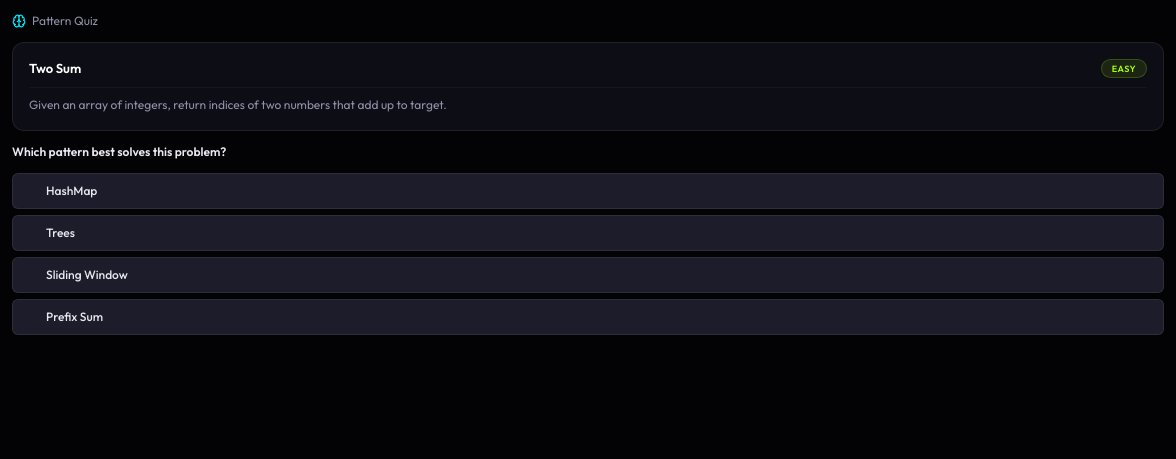
Scenario: PatternQuizPanel › answering correctly › Next Problem resets to answering state (hides Correct feedback)
The image size is (1176, 459).
What coordinates should you click on to do the following:
click the button "HashMap"
I would click on:
 (72, 190)
Its box is top-left (12, 172), bottom-right (1164, 208).
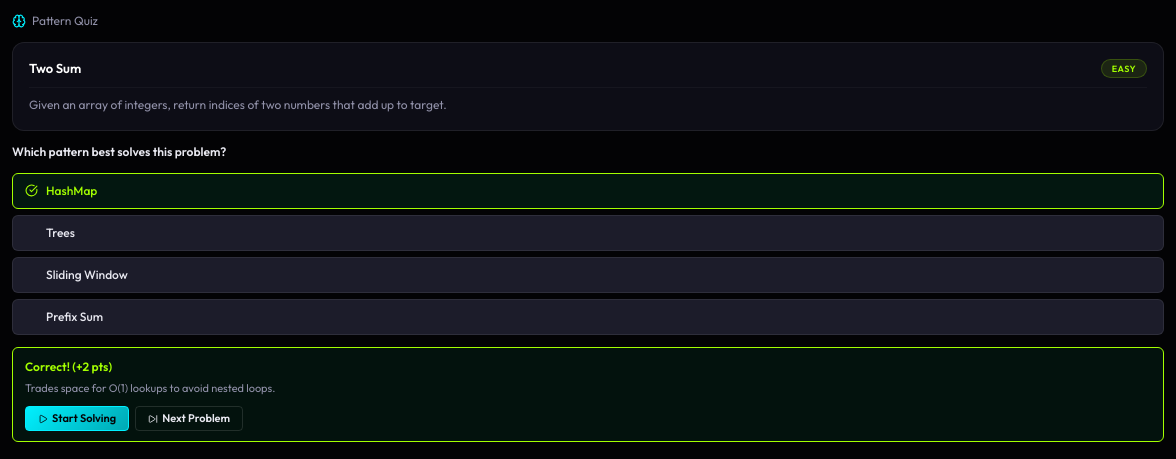
What coordinates should you click on to do the following:
click the button "Next Problem"
I would click on:
 (189, 418)
Its box is top-left (135, 406), bottom-right (243, 431).
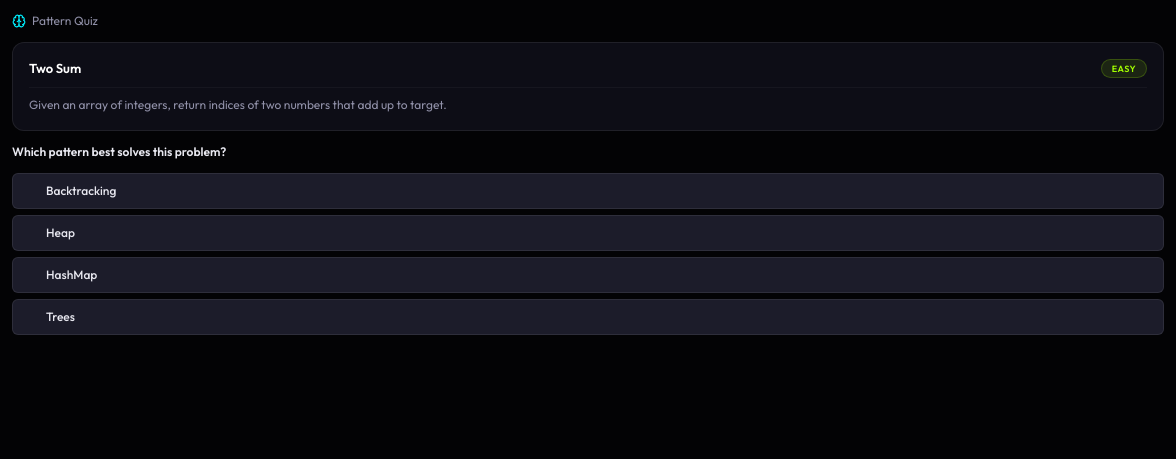
Now the text "Correct!" is gone
